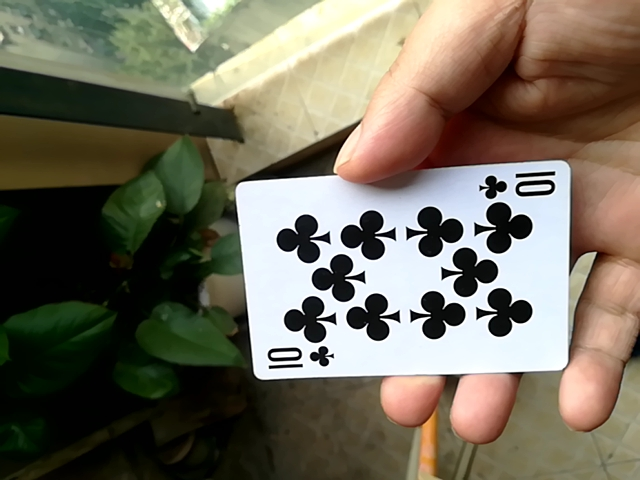mh 10: (238, 165, 569, 379)
